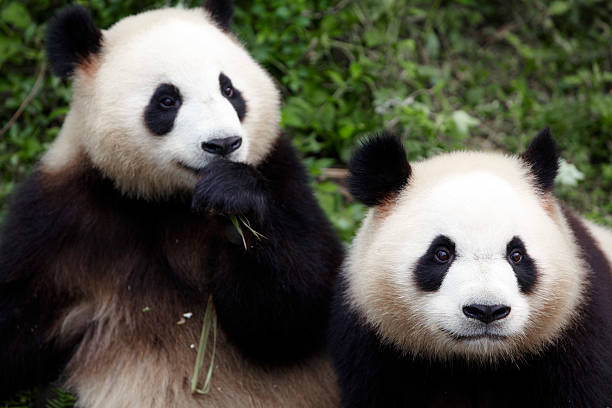panda: (305, 106, 612, 386), (29, 2, 308, 233)
